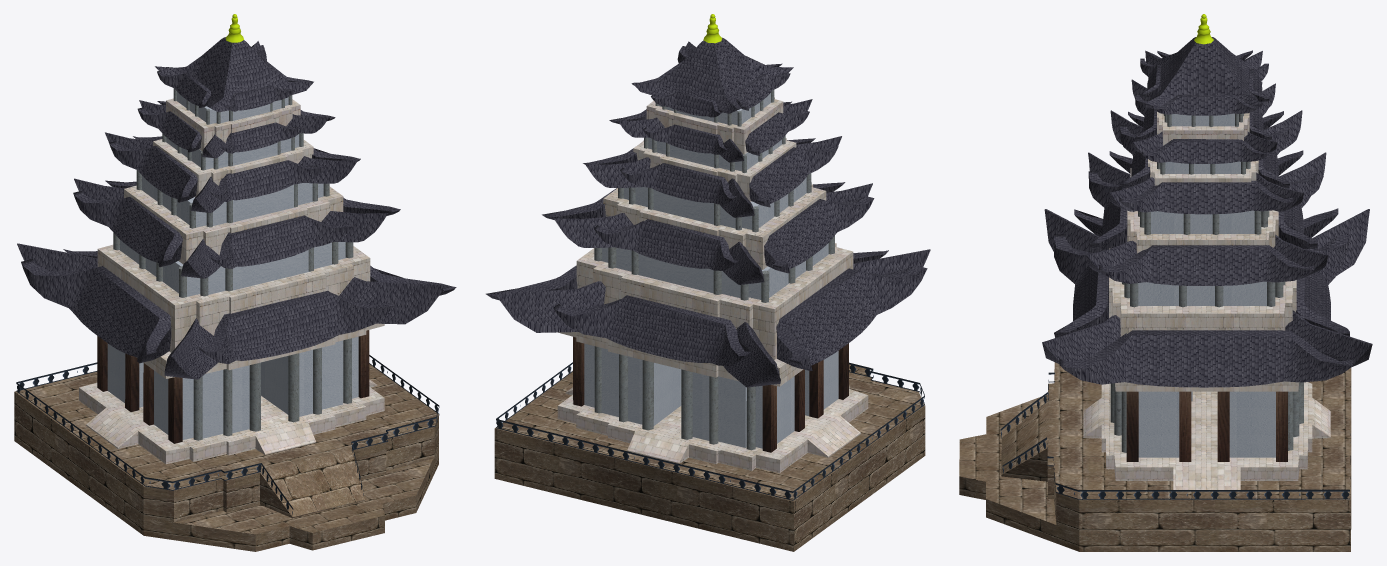
Rendered from Tower.obj.
The picture shows the model from 3 angles, left to right: view 1: azimuth 30°, elevation 25°; view 2: azimuth 150°, elevation 25°; view 3: azimuth 270°, elevation 25°; orthographic projection. The views are drawn at different scales.
Visible parts, largest first — view 1: Roof, base, bigPart_socle, Shape006, Shape013, Cylinder001, Box008, Shape002; view 2: Roof, base, bigPart_socle, Shape006, Shape013, Cylinder001, Box008, Shape002; view 3: Roof, base, bigPart_socle, Shape006, Shape013, Cylinder001, Box008, Shape002.
Boxes of the visible parts, bbox=[...] form: Roof: bbox=[17, 37, 456, 379]; base: bbox=[14, 364, 438, 551]; bigPart_socle: bbox=[79, 98, 384, 464]; Shape006: bbox=[107, 336, 358, 439]; Shape013: bbox=[120, 91, 346, 296]; Cylinder001: bbox=[113, 88, 353, 440]; Box008: bbox=[97, 330, 369, 443]; Shape002: bbox=[16, 355, 439, 514]; Roof: bbox=[486, 37, 930, 387]; base: bbox=[494, 364, 925, 551]; bigPart_socle: bbox=[557, 97, 868, 472]; Shape006: bbox=[584, 343, 838, 448]; Shape013: bbox=[601, 93, 828, 299]; Cylinder001: bbox=[594, 90, 834, 450]; Box008: bbox=[573, 336, 848, 452]; Shape002: bbox=[496, 362, 924, 500]; Roof: bbox=[1042, 37, 1372, 387]; base: bbox=[959, 362, 1351, 551]; bigPart_socle: bbox=[1083, 111, 1330, 489]; Shape006: bbox=[1138, 391, 1275, 457]; Shape013: bbox=[1138, 113, 1266, 305]; Cylinder001: bbox=[1110, 113, 1303, 452]; Box008: bbox=[1126, 391, 1287, 461]; Shape002: bbox=[1000, 372, 1350, 499].
Size of the model in its own units: 27.04 by 37.64 by 30.44.
